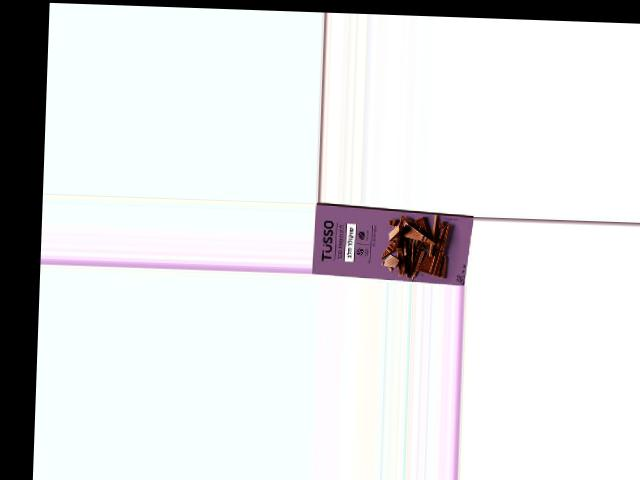chocolate: (315, 207, 474, 281)
